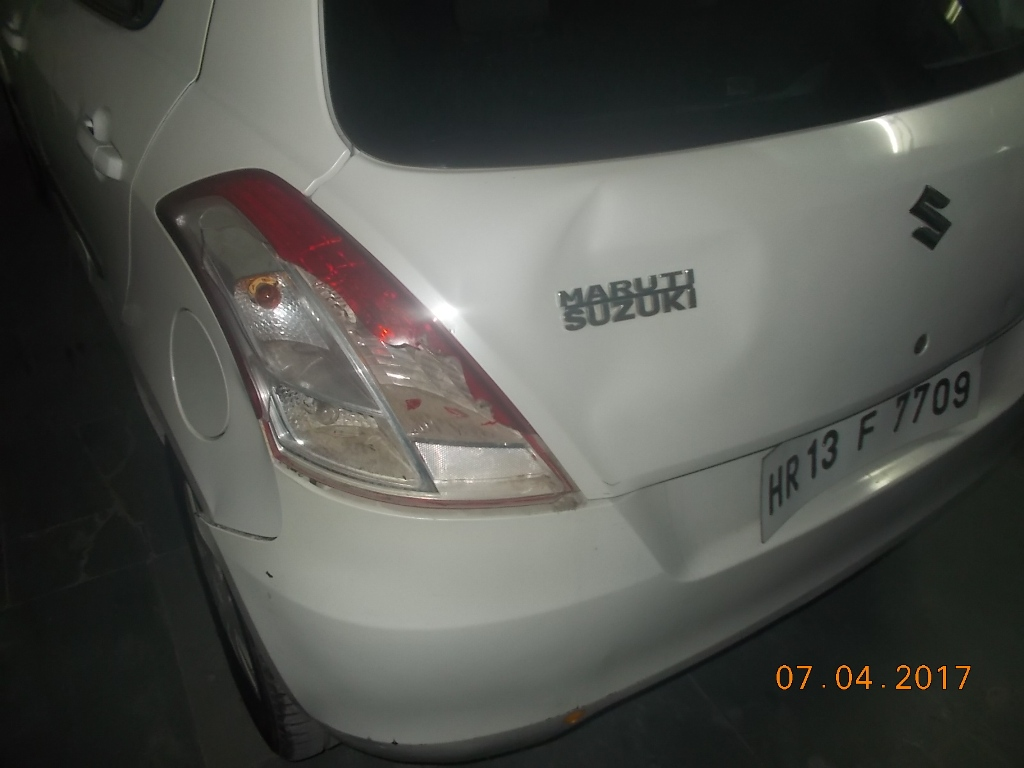Dent: (555, 192, 766, 382)
